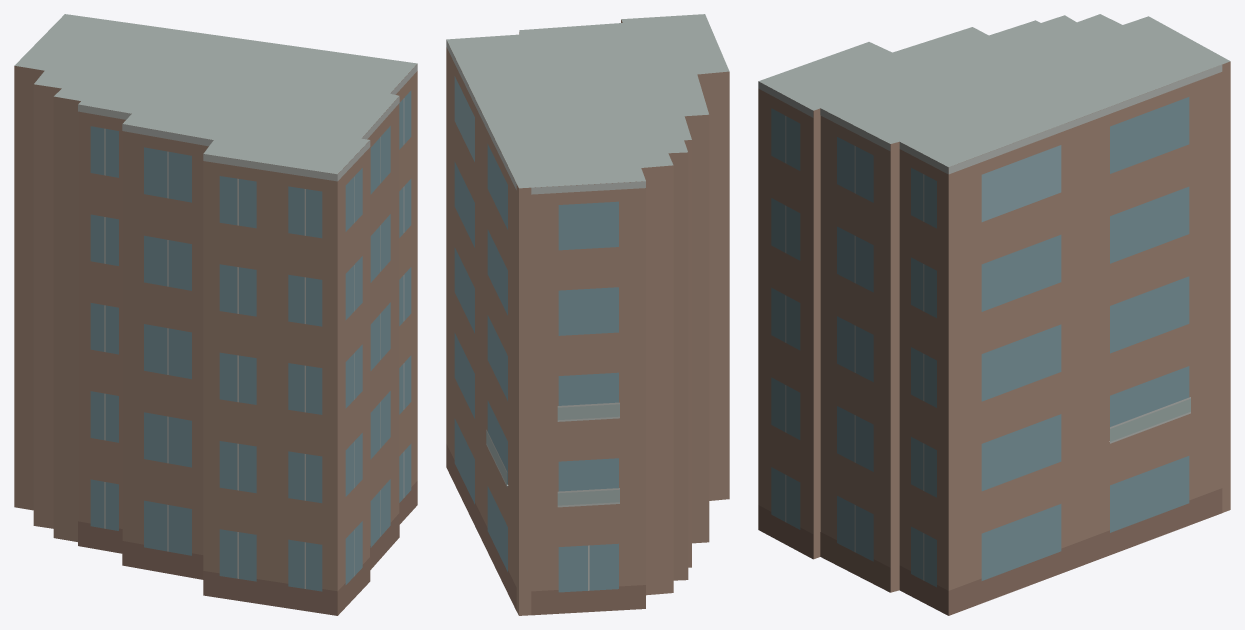
The model's file is survey-upis-32716499.glb.
3 views of the same model, side by side, from view 1: azimuth 30°, elevation 25°; view 2: azimuth 150°, elevation 25°; view 3: azimuth 270°, elevation 25° (orthographic). The views are drawn at different scales.
Parts seen in each view (by area): view 1: survey-upis-32716499.tmp; view 2: survey-upis-32716499.tmp; view 3: survey-upis-32716499.tmp.
Part boxes in pixels (left/top/right/bottom): survey-upis-32716499.tmp: left=14, top=14, right=417, bottom=615; survey-upis-32716499.tmp: left=446, top=14, right=729, bottom=615; survey-upis-32716499.tmp: left=758, top=14, right=1230, bottom=615.
Bounding box in the file's own units: 11.07 × 15.1 × 14.41.
